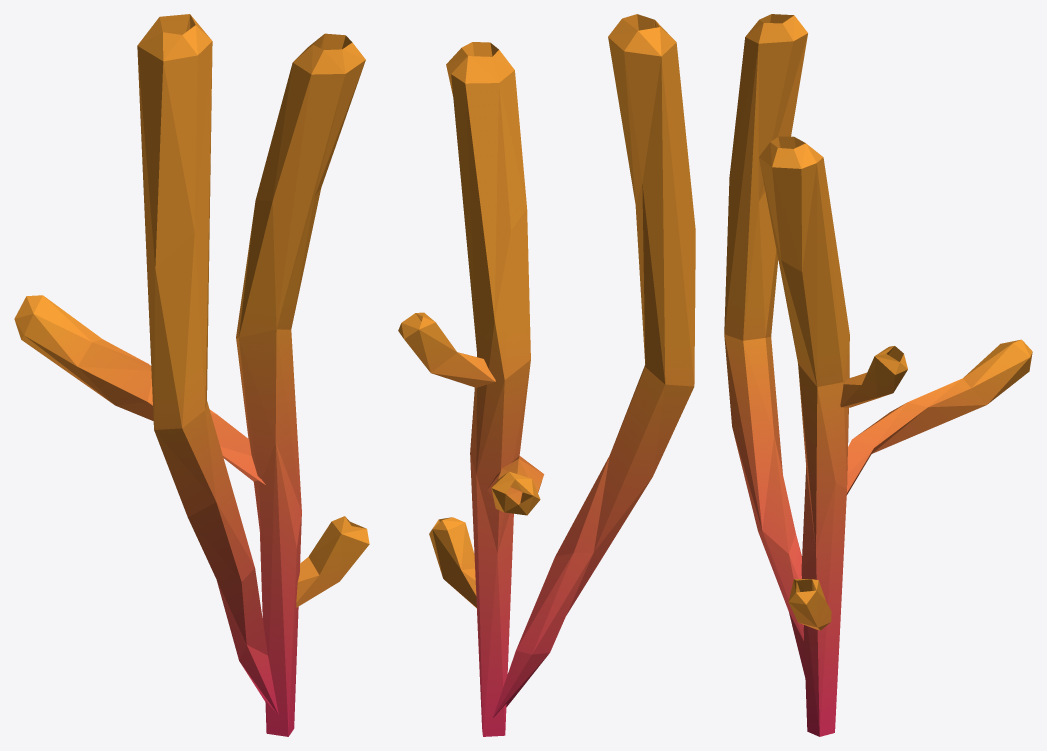
The model's file is SM_Spongia_17.fbx.
3 views of the same model, side by side, from view 1: azimuth 30°, elevation 25°; view 2: azimuth 150°, elevation 25°; view 3: azimuth 270°, elevation 25° (orthographic). The views are drawn at different scales.
Visible parts, largest first — view 1: Spongia_17; view 2: Spongia_17; view 3: Spongia_17.
Boxes of the visible parts, left/top/right/bottom form: Spongia_17: left=14, top=14, right=369, bottom=736; Spongia_17: left=398, top=14, right=695, bottom=736; Spongia_17: left=724, top=14, right=1032, bottom=736.
Size of the model in its own units: 43.21 by 128 by 54.27.
